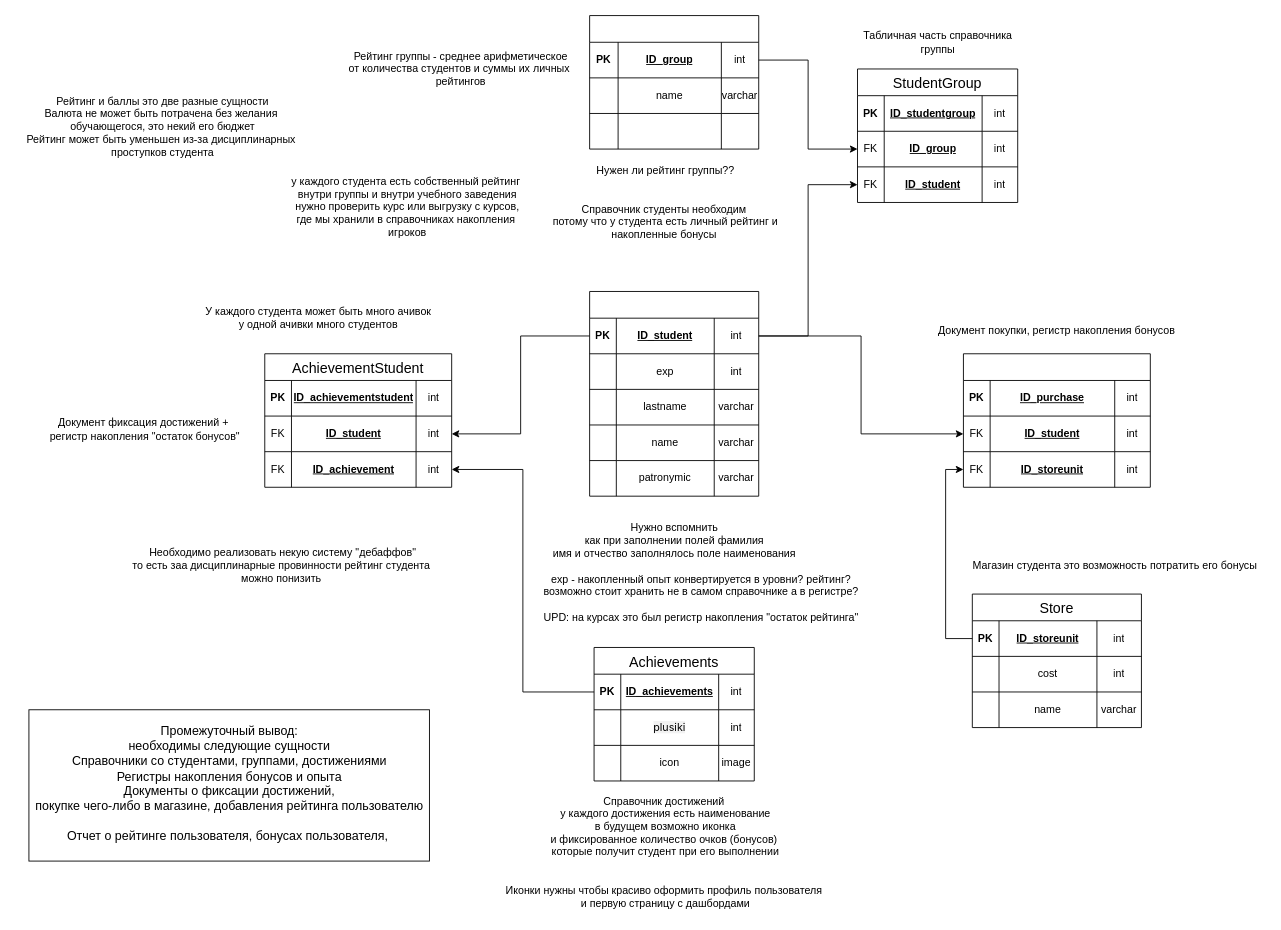
Some shapes in this 1281 by 930 pixel diagram are drawn without their labels. Each missing label, with the box of its shape:
Groups: (589, 15, 759, 149)
PurchaseHistory: (963, 353, 1150, 487)
Students: (589, 291, 759, 496)
